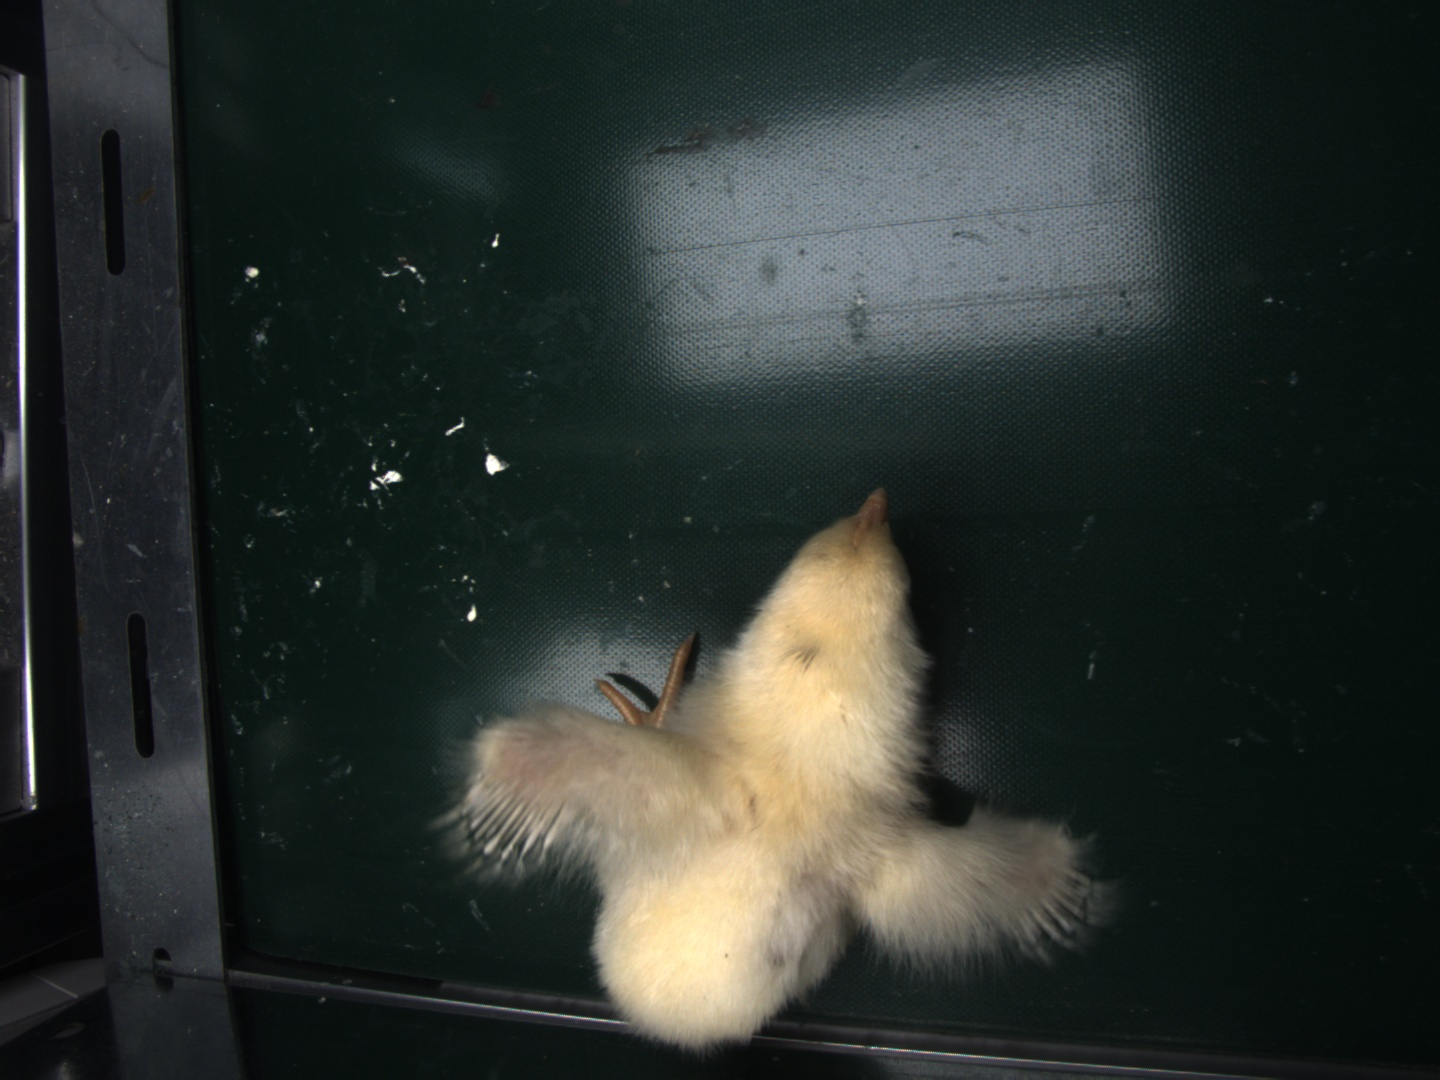male: (464, 774, 562, 864)
